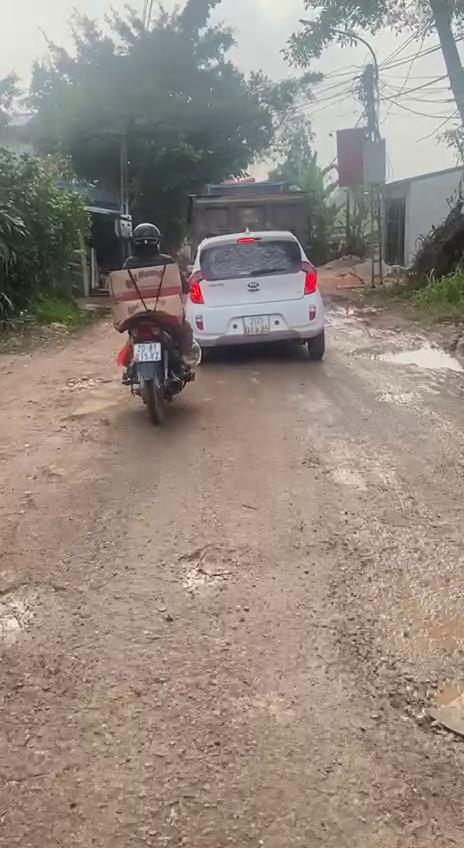pothole: (339, 606, 464, 752), (168, 538, 243, 608), (349, 338, 464, 377), (0, 578, 59, 652), (52, 402, 127, 447), (304, 438, 362, 496), (61, 374, 116, 398)
